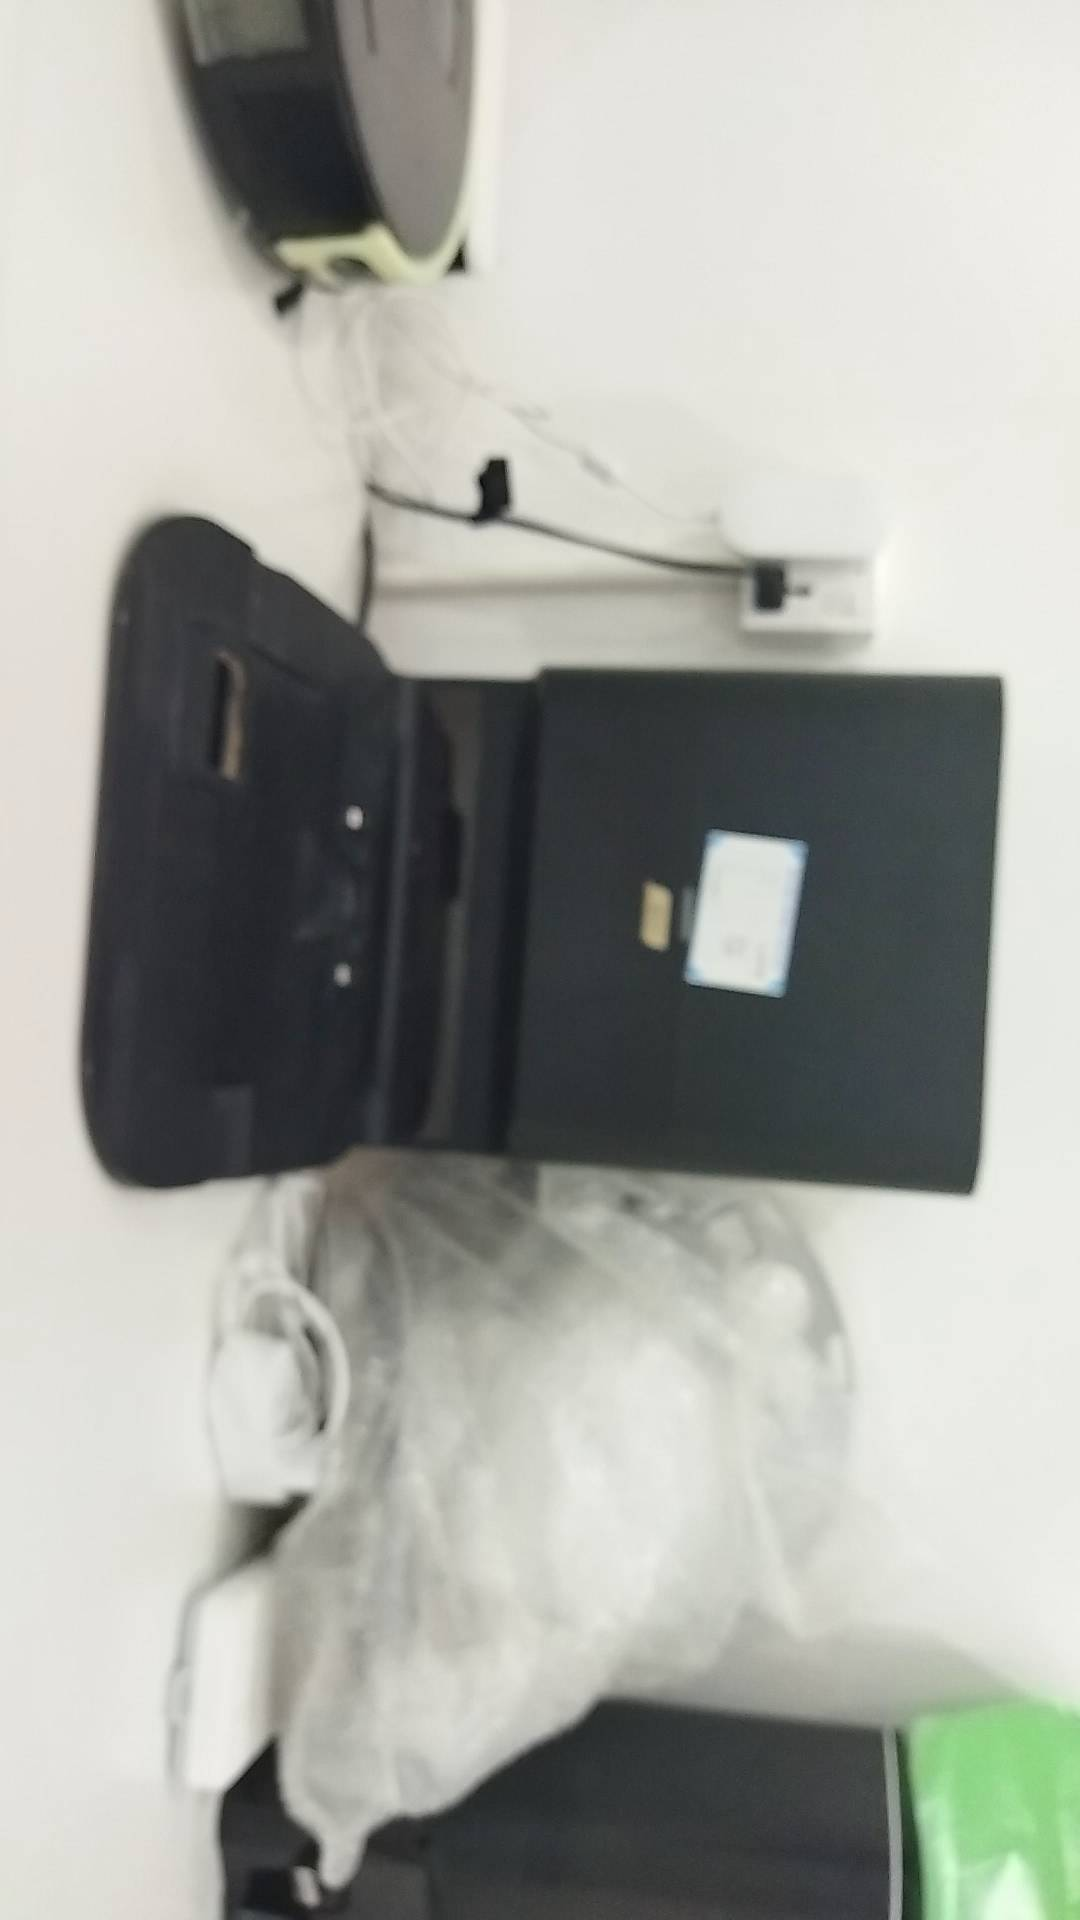dust collecting barrel: (78, 514, 1004, 1201)
